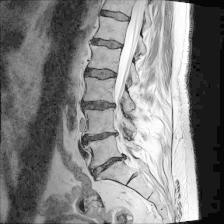disc: (84, 64, 121, 85), (89, 33, 126, 54), (100, 7, 134, 26)
hdisc: (86, 152, 134, 182), (79, 96, 120, 118), (80, 128, 123, 147)
